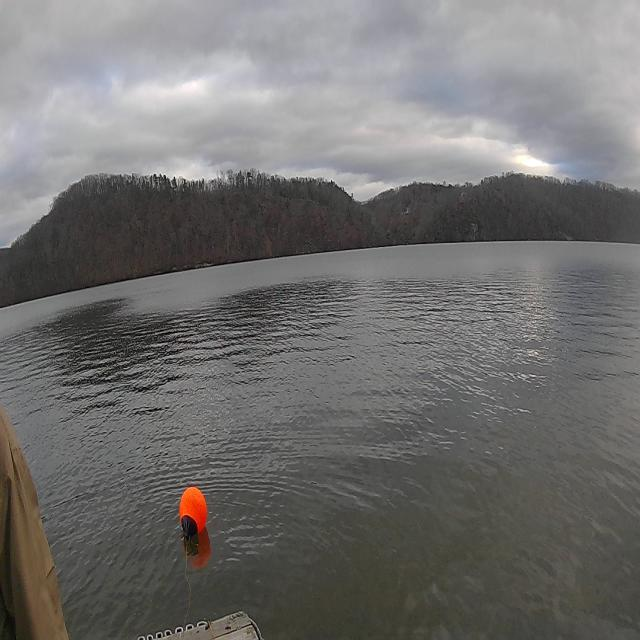Buoy: (176, 483, 210, 542)
